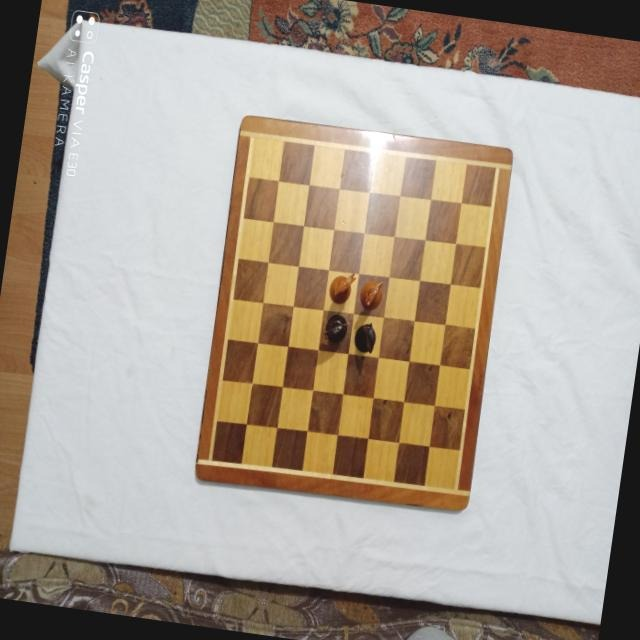black-knight: (322, 312, 350, 347), (352, 320, 378, 356)
white-knight: (327, 270, 357, 306), (358, 276, 385, 311)
